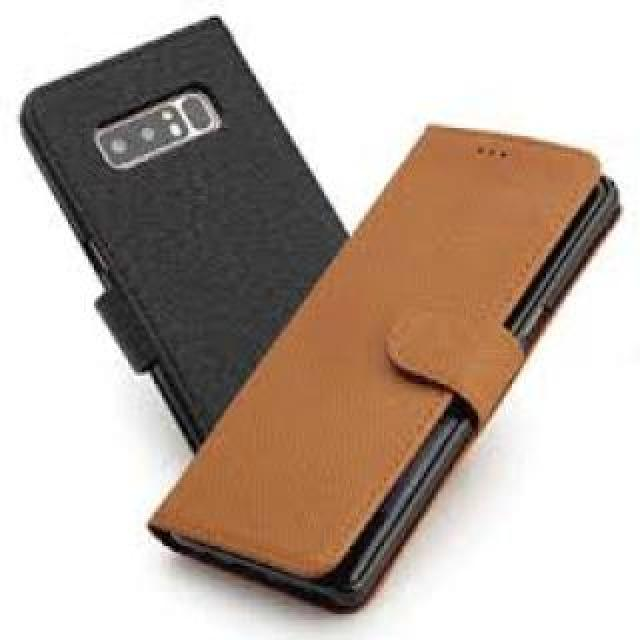smart phone: (180, 103, 590, 582), (48, 0, 268, 440)
